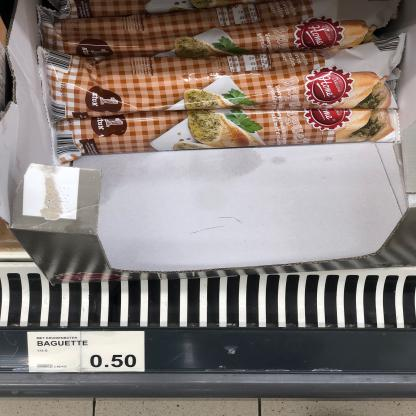prtg: (28, 332, 146, 373)
